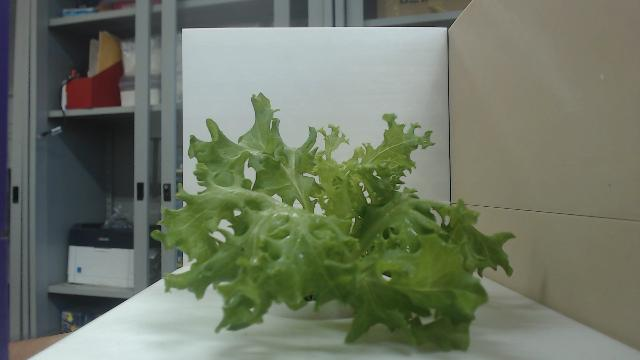Harvest Stage: (148, 90, 516, 354)
